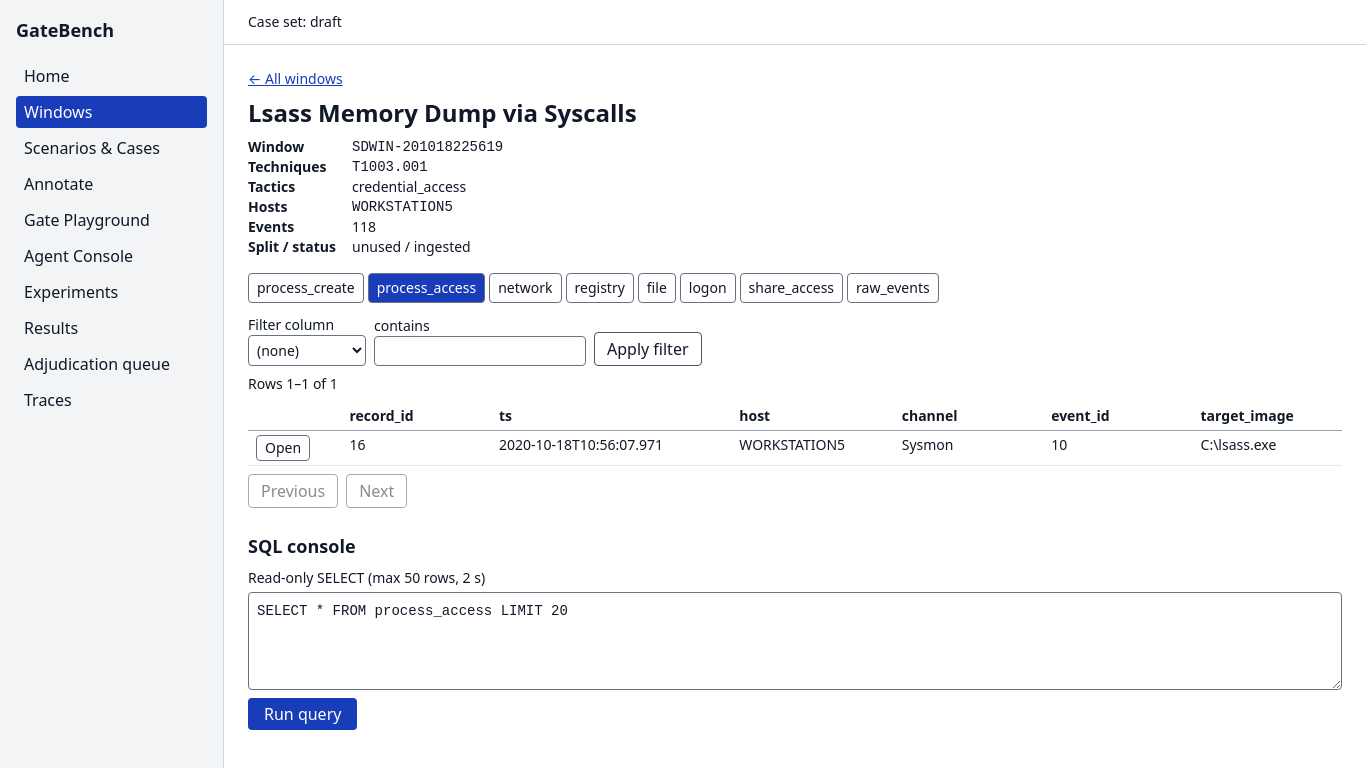
Test case: Windows page › shows the window detail with table rows and opens the record drawer
The image size is (1366, 768).
expect the heading "Lsass Memory Dump via Syscalls" is shown: met, box x1=248 y1=96 x2=637 y2=129
Step 1. Click the button with aria-label "Open record 16" → (283,448), box x1=256 y1=435 x2=310 y2=461
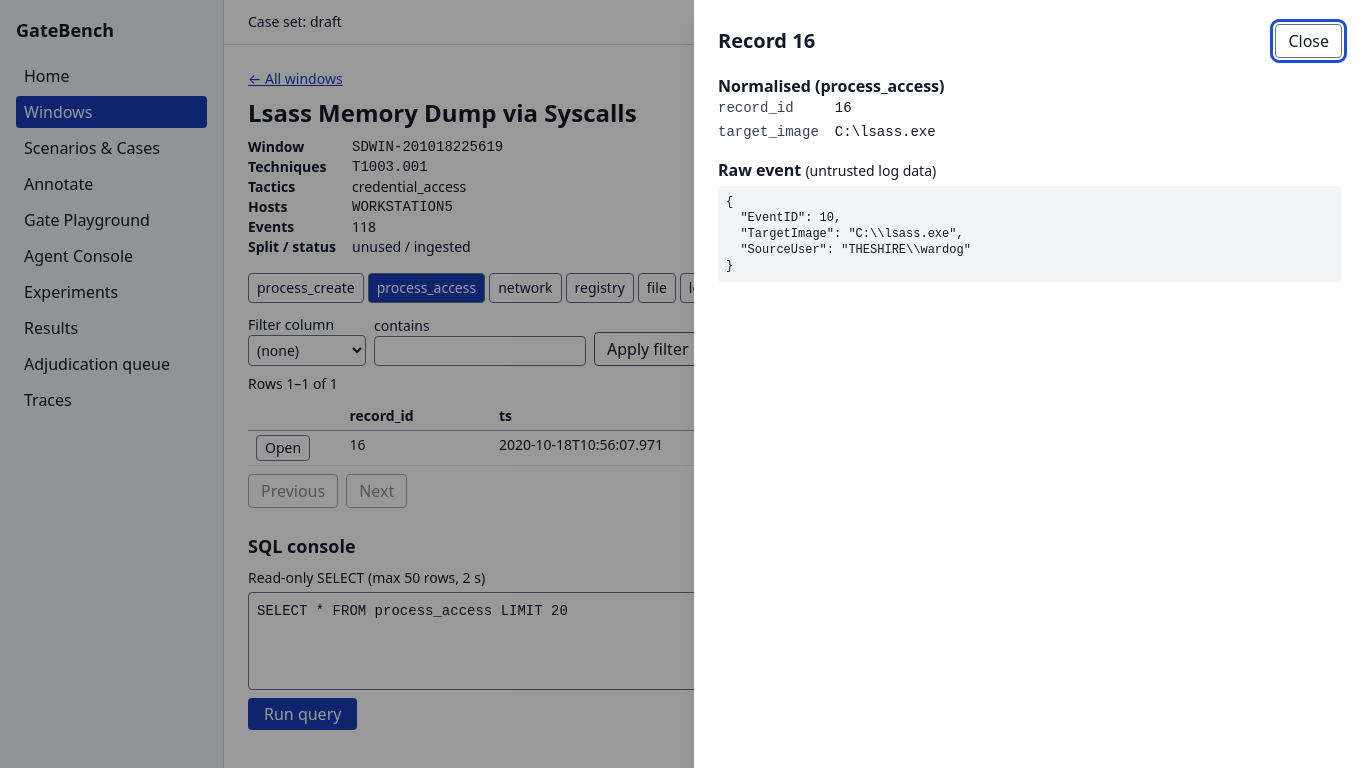
expect the text "THESHIRE\\\\wardog" is shown: met, box x1=726 y1=195 x2=971 y2=273
expect the heading "Normalised (process_access)" is shown: met, box x1=718 y1=75 x2=944 y2=97
